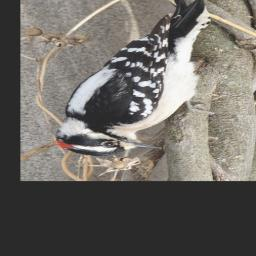Woodpecker: (56, 0, 214, 157)
